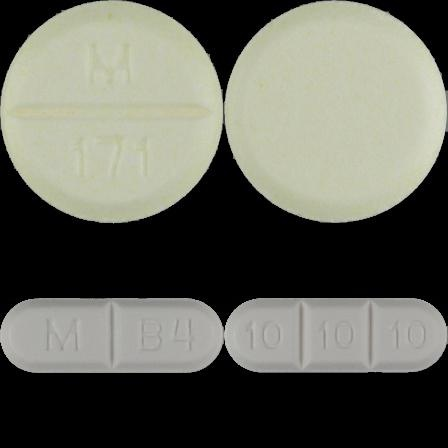0378-1171: (0, 0, 224, 224)
